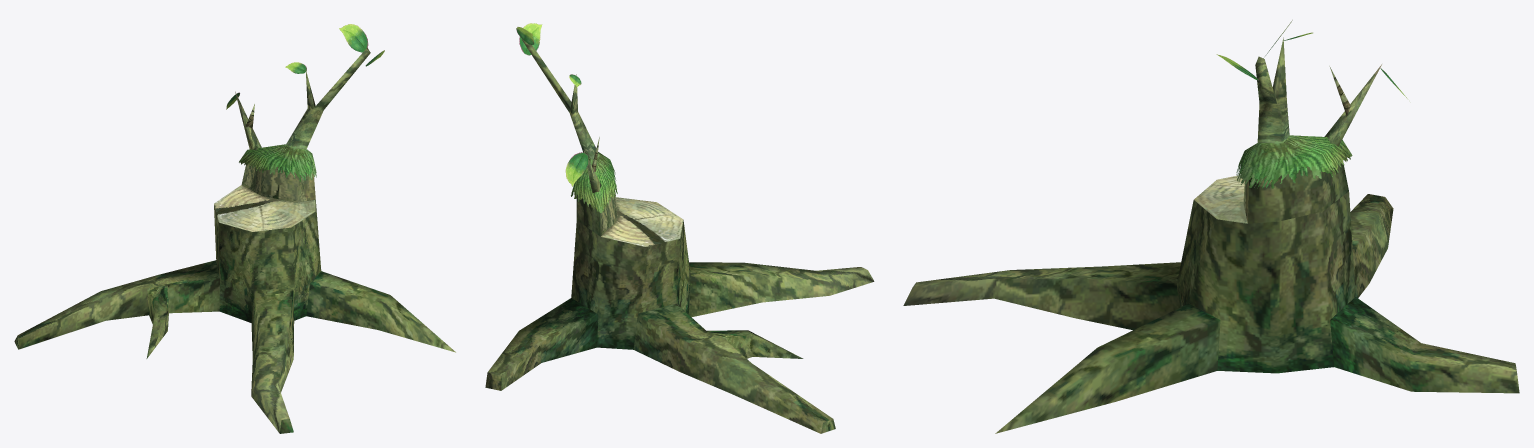
File: nml-bd101.glb
3 renders of one model, left to right at view 1: azimuth 30°, elevation 25°; view 2: azimuth 150°, elevation 25°; view 3: azimuth 270°, elevation 25°, orthographic. The views are drawn at different scales.
Visible parts, largest first — view 1: geom_node_0; view 2: geom_node_0; view 3: geom_node_0.
Part boxes in pixels (bbox=[...]): geom_node_0: bbox=[14, 24, 455, 433]; geom_node_0: bbox=[485, 23, 874, 433]; geom_node_0: bbox=[903, 20, 1519, 433].
Bounding box in the file's own units: 5.64 × 4.61 × 5.96.
Materials: 1 (1 with a texture image).
